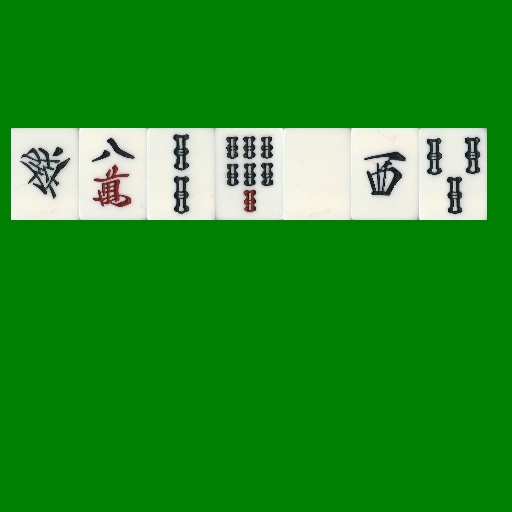2s: (147, 128, 215, 220)
3s: (419, 128, 487, 220)
7s: (215, 128, 283, 220)
8m: (79, 128, 147, 220)
hatsu: (11, 128, 79, 220)
west: (351, 128, 419, 220)
white: (283, 128, 351, 220)
